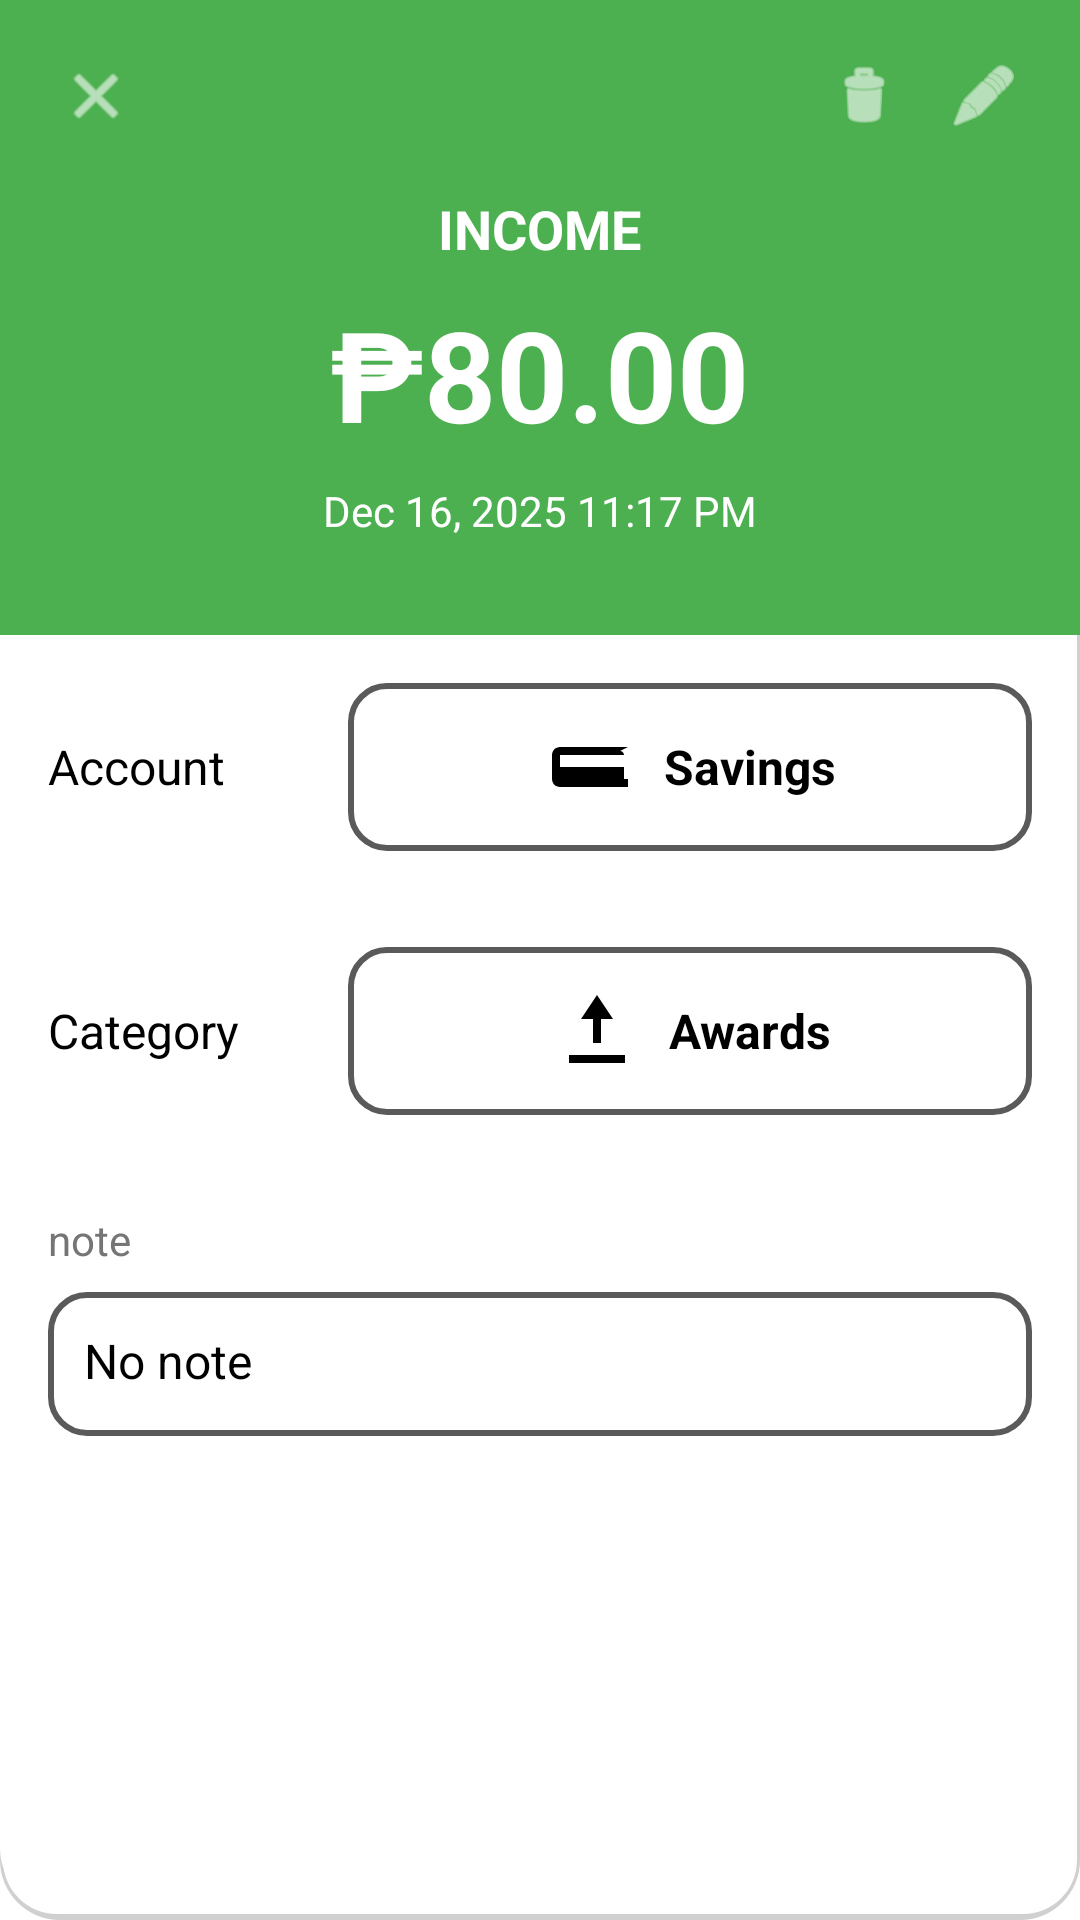

Where to tap for icons on this 1080x1920 app screen, as point (x, y):
close clear cancel: point (96, 96)
delete: point (864, 95)
edit: point (983, 95)
income: point (597, 1029)
wallet: point (590, 767)
